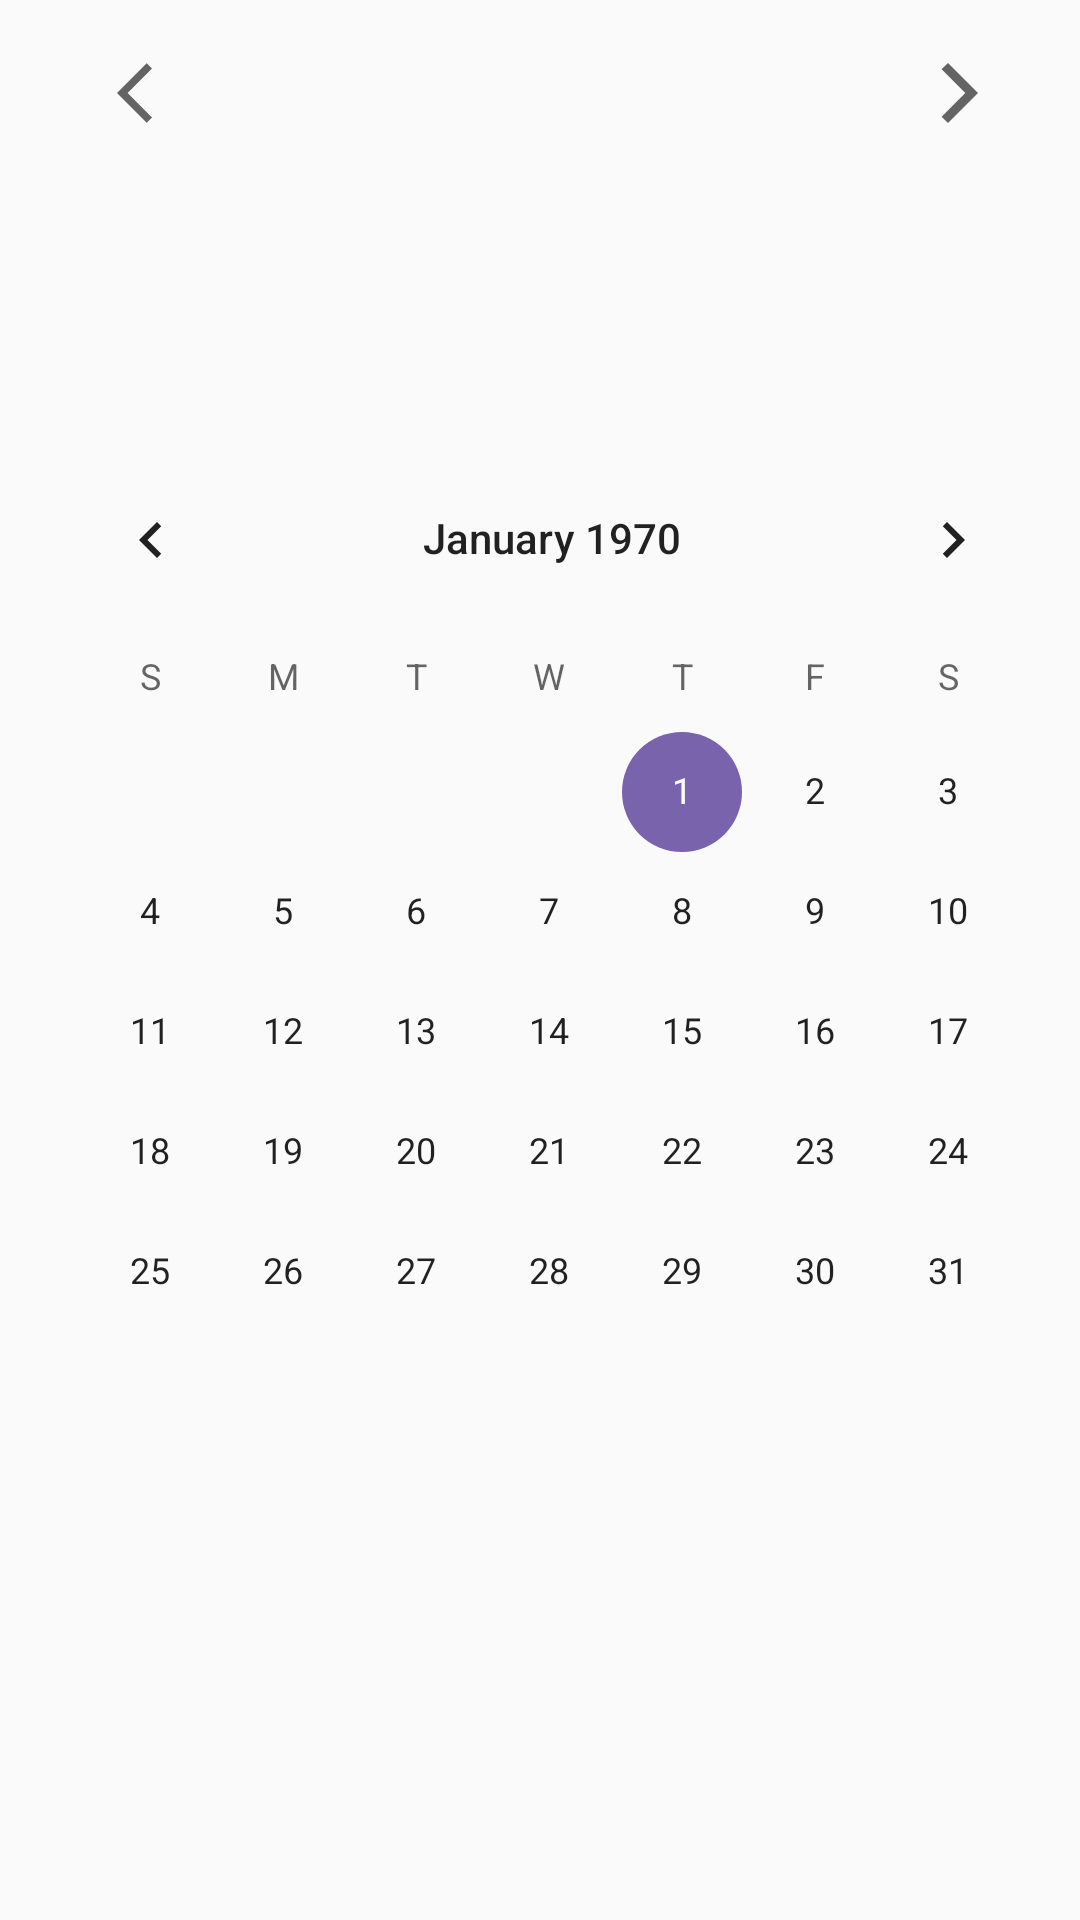

Where icons sit on this 1080w x 1920h app screen, as (x1, y1, x2, y2):
Button to see next profile name and color: (942, 63, 978, 123)
Button to see previous profile name and color: (117, 63, 152, 123)
